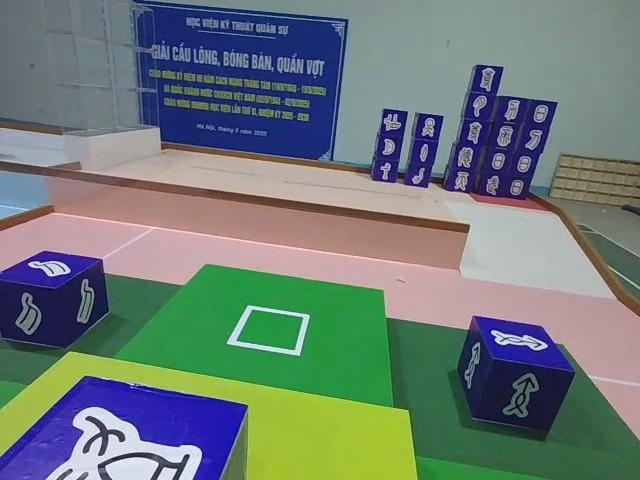R2 Real Blue: (2, 376, 248, 480), (454, 318, 574, 439), (2, 249, 111, 349)
